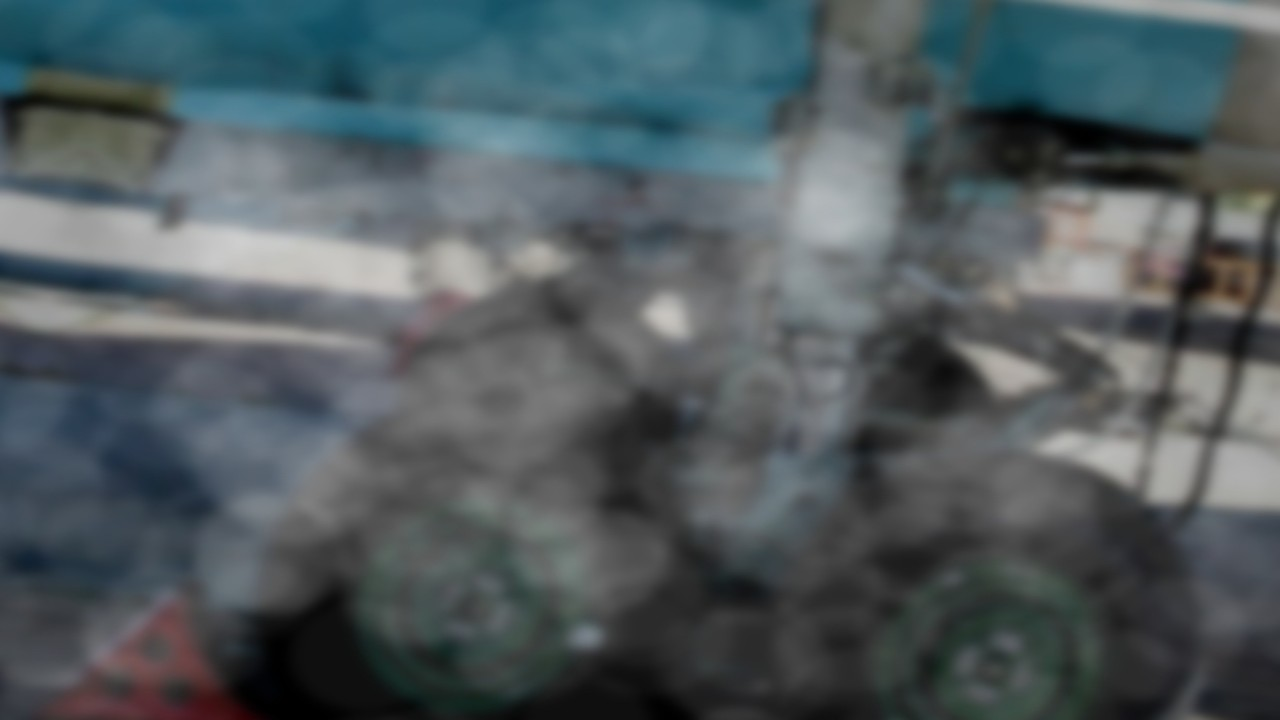chock: (17, 559, 338, 720)
wheel: (210, 356, 736, 720), (721, 418, 1254, 720), (390, 264, 708, 451), (839, 326, 1029, 469)
